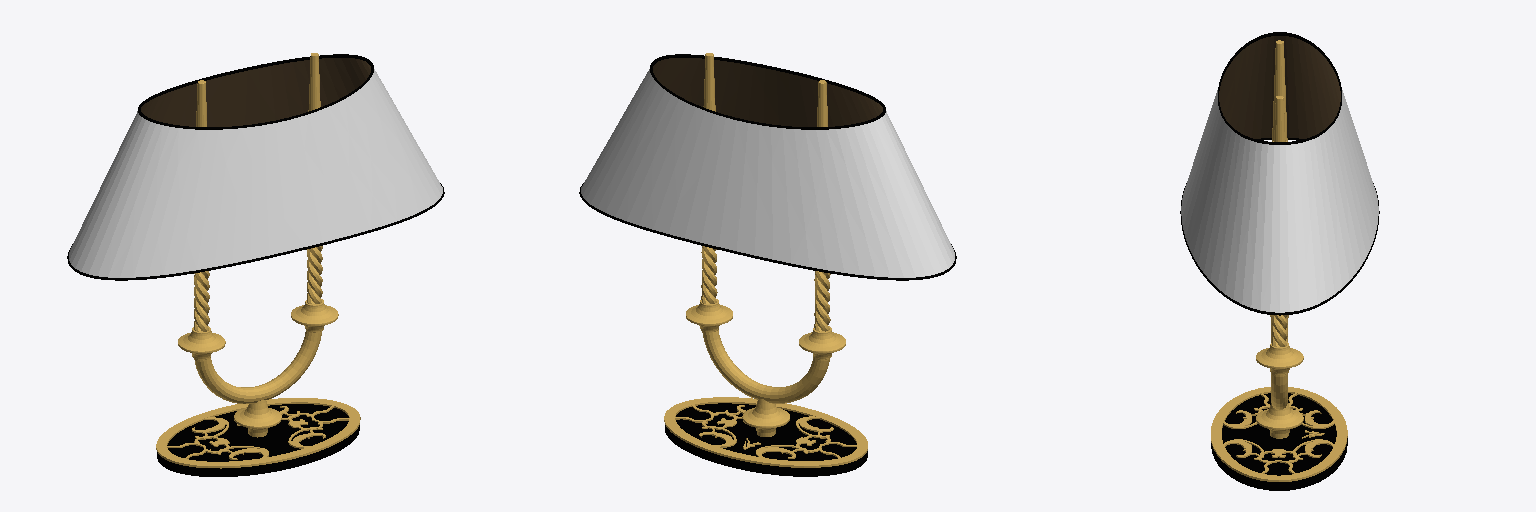
Rendered from Lamp.obj.
3 views of the same model, side by side, from view 1: azimuth 30°, elevation 25°; view 2: azimuth 150°, elevation 25°; view 3: azimuth 270°, elevation 25° (orthographic).
Visible parts, largest first — view 1: Object6360, Sphere096, Cylinder1560, Loft841, Loft840, Sphere095, Cylinder1553, Cylinder1555, Cylinder1556, Cylinder1557; view 2: Object6360, Sphere096, Cylinder1560, Loft841, Loft840, Sphere095, Cylinder1553, Cylinder1556, Cylinder1555, Cylinder1557; view 3: Object6360, Sphere096, Cylinder1560, Loft841, Sphere095, Cylinder1553, Cylinder1556, Cylinder1558, Loft840.
Boxes of the visible parts, x1,y1,x2,y2 form: Object6360: [69, 69, 442, 277]; Sphere096: [141, 58, 370, 126]; Cylinder1560: [157, 404, 359, 476]; Loft841: [156, 398, 360, 468]; Loft840: [194, 331, 321, 403]; Sphere095: [67, 54, 444, 280]; Cylinder1553: [234, 400, 281, 437]; Cylinder1555: [178, 326, 225, 359]; Cylinder1556: [291, 299, 338, 332]; Cylinder1557: [308, 53, 320, 111]; Object6360: [581, 69, 954, 277]; Sphere096: [653, 58, 882, 126]; Cylinder1560: [665, 403, 867, 476]; Loft841: [664, 397, 867, 467]; Loft840: [702, 330, 829, 403]; Sphere095: [579, 54, 956, 280]; Cylinder1553: [742, 399, 789, 436]; Cylinder1556: [686, 298, 732, 331]; Cylinder1555: [799, 326, 845, 359]; Cylinder1557: [703, 53, 715, 111]; Object6360: [1181, 90, 1378, 312]; Sphere096: [1219, 36, 1340, 138]; Cylinder1560: [1211, 393, 1347, 490]; Loft841: [1211, 387, 1347, 481]; Sphere095: [1180, 32, 1379, 315]; Cylinder1553: [1256, 403, 1303, 438]; Cylinder1556: [1256, 342, 1303, 374]; Cylinder1558: [1272, 40, 1287, 141]; Loft840: [1271, 318, 1287, 409].
Size of the model in its own units: 754 by 742 by 357.